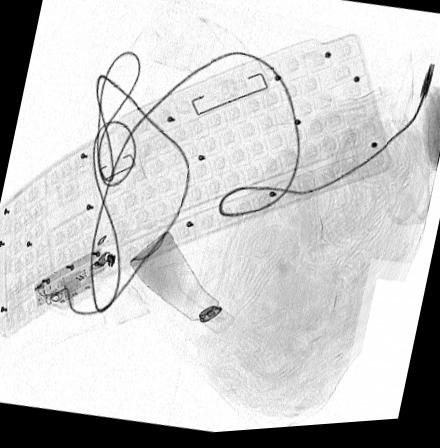Sprayer: (128, 233, 234, 337)
